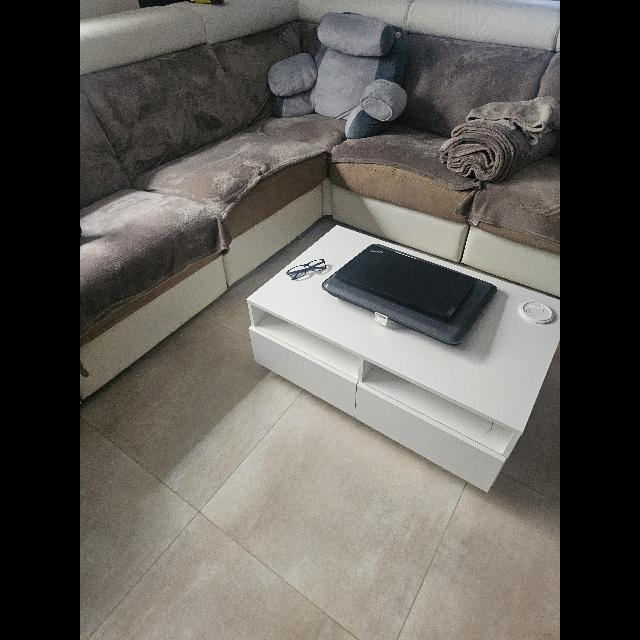glasses: (286, 260, 326, 280)
